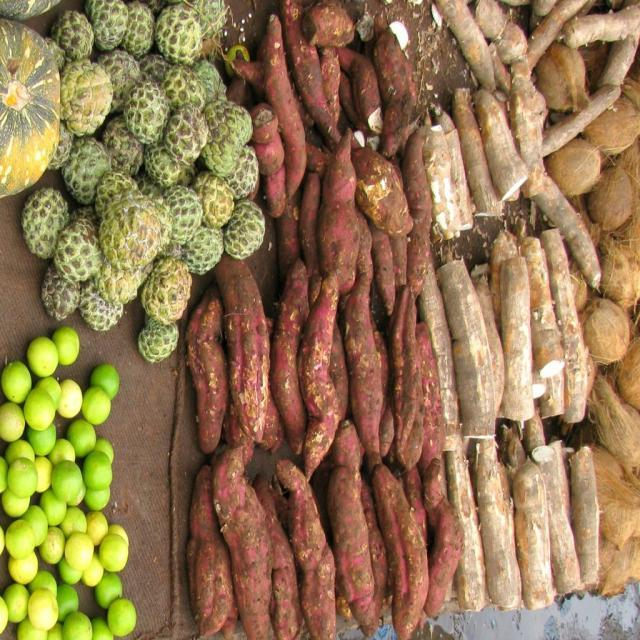Potato: (185, 0, 640, 639)
